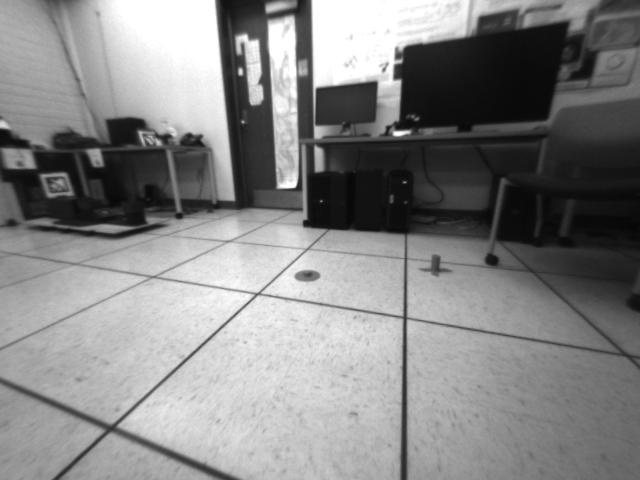X: (417, 253, 455, 278)
